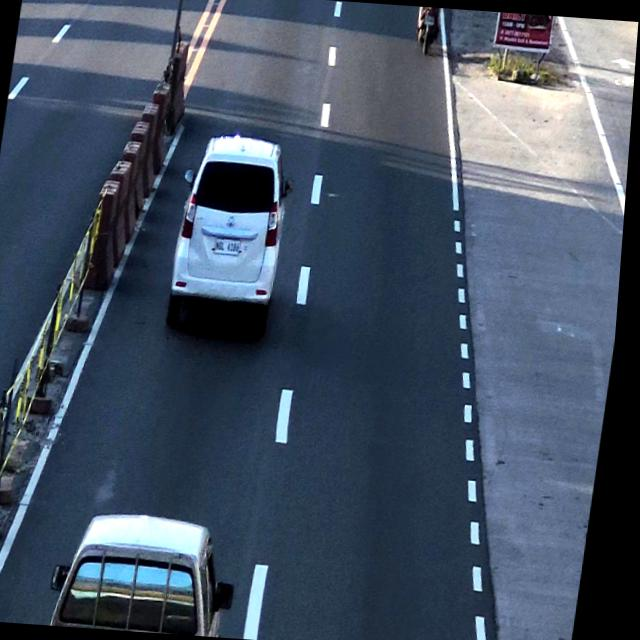Car: (170, 136, 299, 338), (61, 509, 245, 637)
License-Plate: (214, 234, 250, 262)
